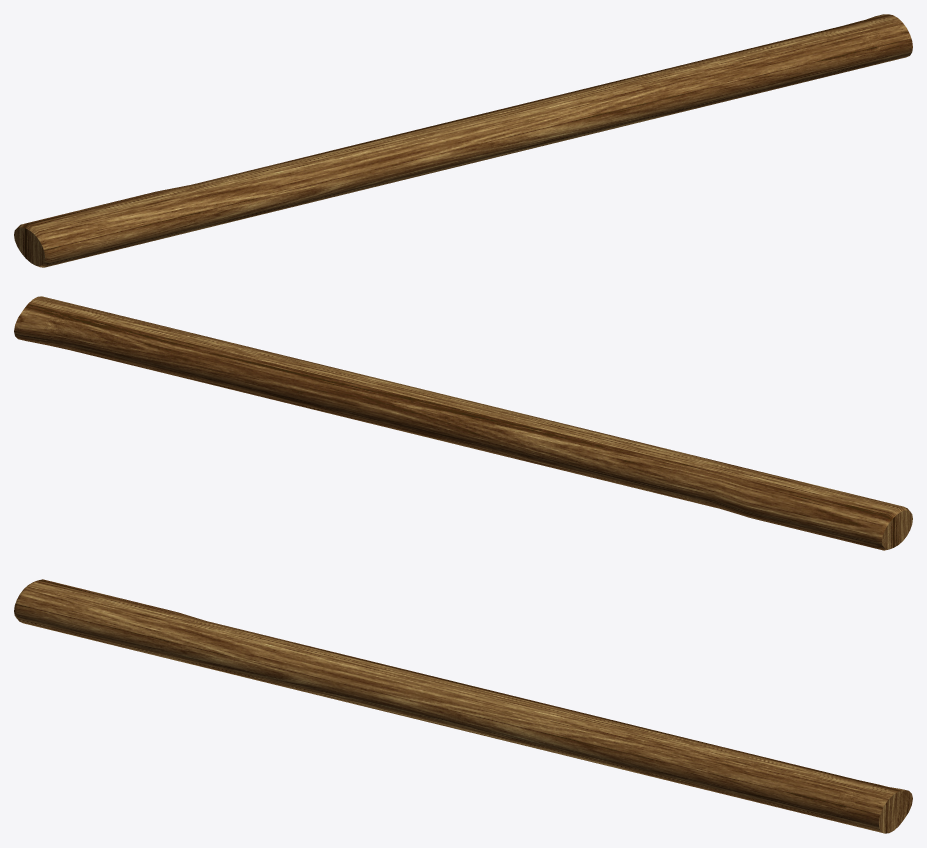
The model's file is mangohacha.fbx.
The picture shows the model from 3 angles, top to bottom: view 1: azimuth 30°, elevation 25°; view 2: azimuth 150°, elevation 25°; view 3: azimuth 330°, elevation 25°; orthographic projection.
Parts seen in each view (by area): view 1: mangohacha; view 2: mangohacha; view 3: mangohacha.
Boxes of the visible parts, x1=… form: mangohacha: x1=14, y1=14, x2=912, y2=267; mangohacha: x1=14, y1=296, x2=912, y2=550; mangohacha: x1=14, y1=579, x2=912, y2=833.
Size of the model in its own units: 51.2 by 2.06 by 3.49.
